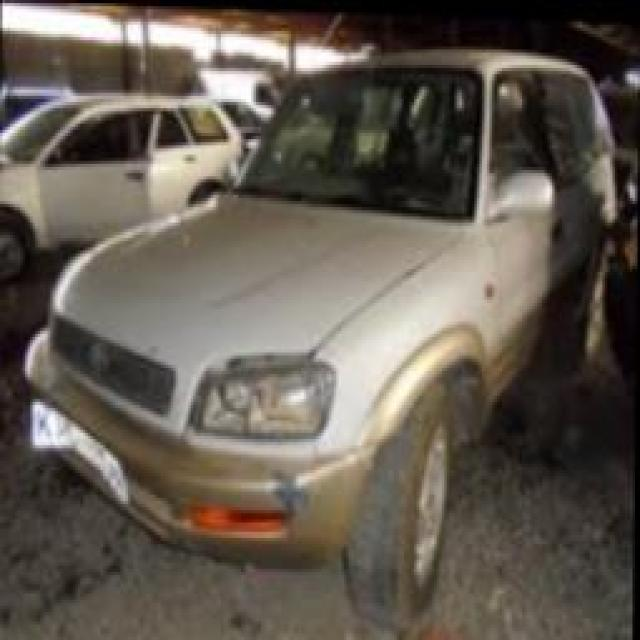Light: (195, 355, 331, 432)
